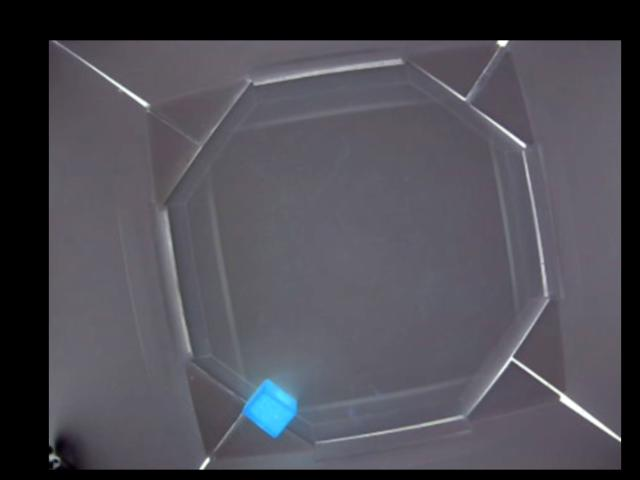Carrot: (245, 378, 299, 439)
